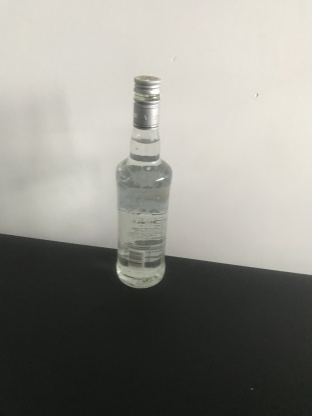nakretka: (131, 73, 162, 130)
